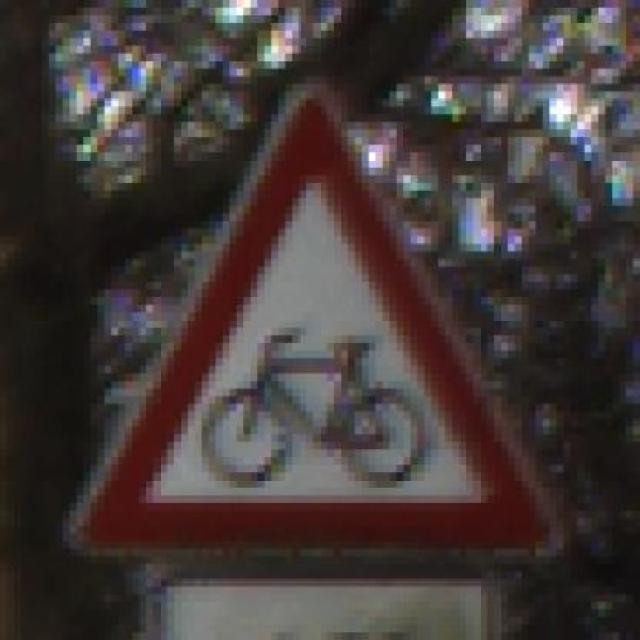CYCLE ROUTE AHEAD WARNING: (56, 76, 570, 572)
